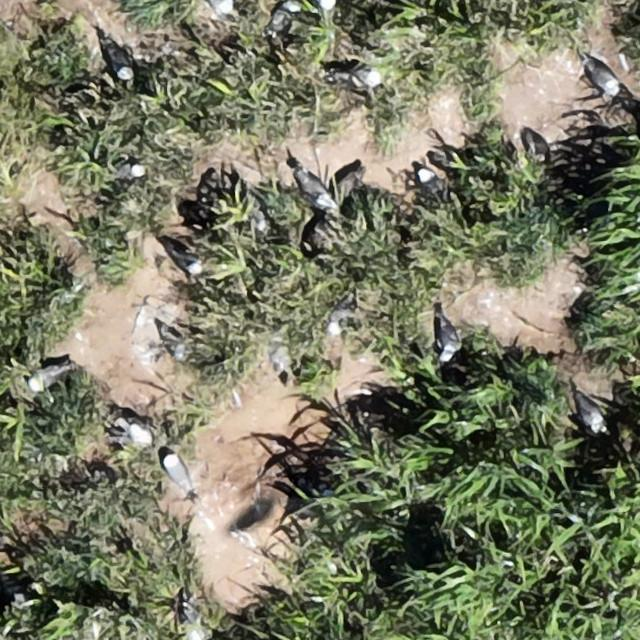umineko: (328, 291, 356, 334), (577, 397, 604, 431), (586, 60, 614, 91), (340, 63, 380, 84), (108, 45, 132, 79), (171, 248, 202, 274), (164, 456, 188, 489), (299, 172, 325, 202), (438, 320, 457, 359), (31, 366, 63, 389), (162, 332, 186, 360), (525, 132, 547, 159), (125, 423, 149, 445), (417, 168, 439, 190), (115, 162, 144, 178), (206, 0, 233, 15), (309, 0, 336, 9)
